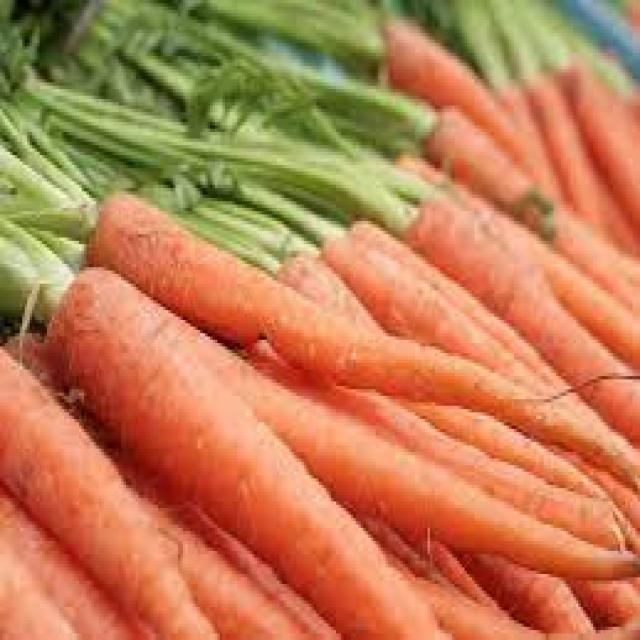Fresh_Carrot: (35, 51, 585, 640)
